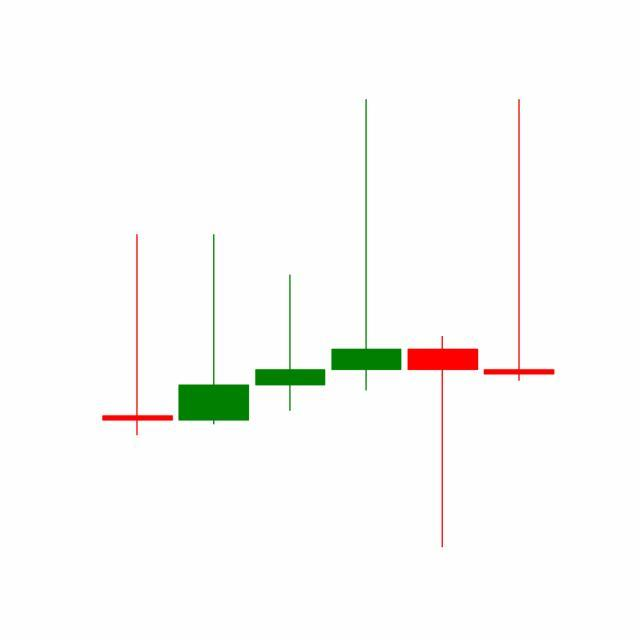Hammer: (404, 334, 482, 551)
